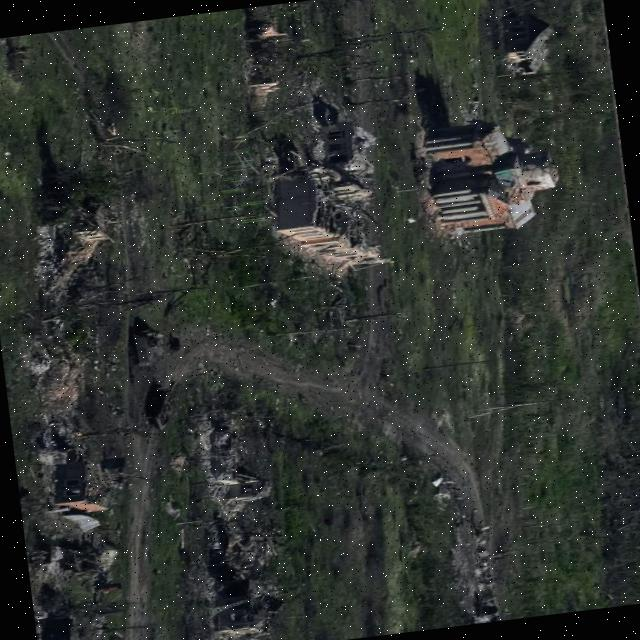APC: (126, 332, 157, 366)
Destroyed: (148, 385, 180, 428)
